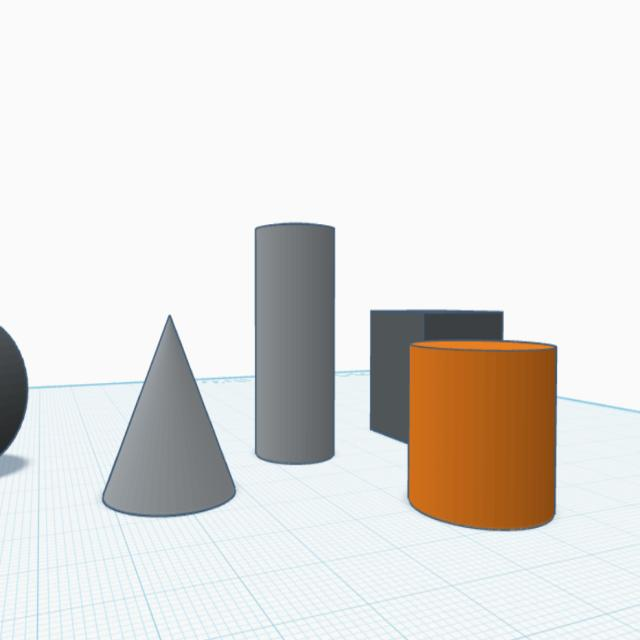cone: (98, 306, 240, 524)
